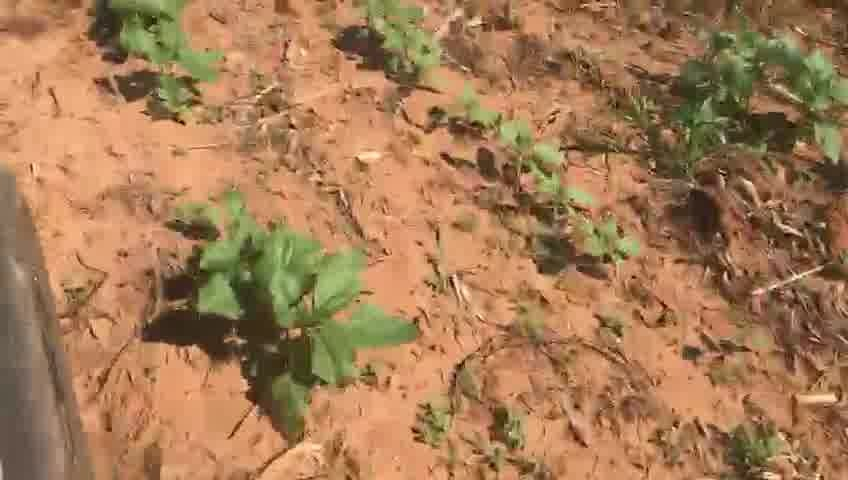sunflower: (256, 269, 419, 419), (169, 203, 308, 326), (112, 13, 226, 116), (359, 9, 442, 81), (487, 113, 563, 186), (571, 214, 645, 266), (456, 81, 503, 133), (545, 180, 601, 218)
